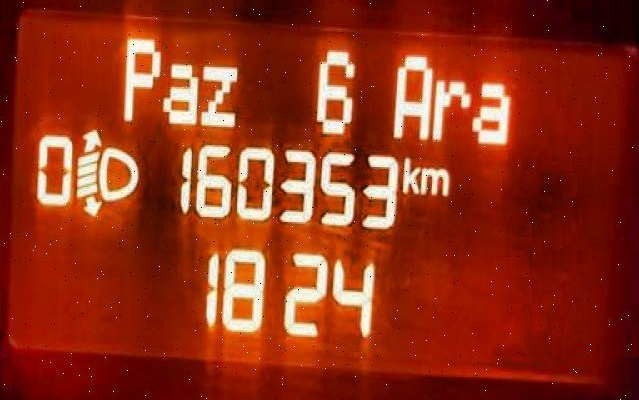0: (33, 128, 74, 210), (234, 142, 274, 223)
1: (199, 242, 219, 328), (172, 140, 191, 216)
2: (280, 245, 328, 340)
3: (277, 143, 316, 227), (359, 150, 398, 230)
4: (330, 252, 375, 338)
5: (319, 147, 355, 228)
6: (312, 42, 357, 138), (193, 136, 233, 220)
8: (222, 242, 266, 333)
X: (118, 28, 162, 125), (389, 50, 429, 143), (471, 77, 512, 147), (198, 60, 239, 130), (430, 72, 469, 142), (162, 55, 198, 128), (420, 160, 449, 196), (400, 148, 418, 195)
